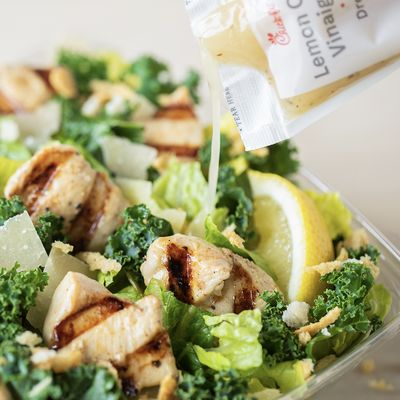curry: (0, 261, 129, 400), (160, 288, 314, 400), (100, 203, 174, 301), (103, 203, 173, 269), (255, 290, 307, 364), (150, 157, 209, 221)
